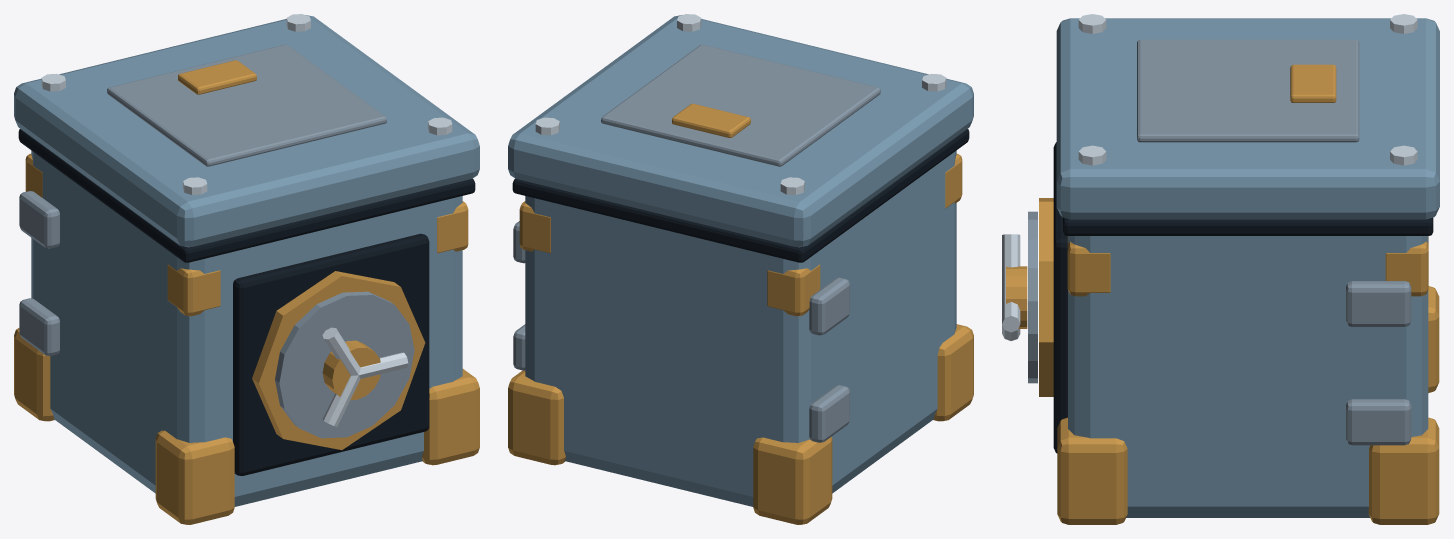
The model's file is vault-box.glb.
3 views of the same model, side by side, from view 1: azimuth 30°, elevation 25°; view 2: azimuth 150°, elevation 25°; view 3: azimuth 270°, elevation 25° (orthographic). The views are drawn at different scales.
Visible parts, largest first — view 1: vault-box__vault-color, vault-box__steel, vault-box__brass, vault-box__dark, vault-box__chrome; view 2: vault-box__vault-color, vault-box__steel, vault-box__brass, vault-box__dark, vault-box__chrome; view 3: vault-box__vault-color, vault-box__steel, vault-box__brass, vault-box__dark, vault-box__chrome.
Part boxes in pixels (x1,y1,x2,y2): vault-box__vault-color: [14, 15, 479, 506]; vault-box__steel: [19, 44, 414, 438]; vault-box__brass: [14, 60, 479, 524]; vault-box__dark: [18, 129, 475, 475]; vault-box__chrome: [41, 14, 452, 426]; vault-box__vault-color: [508, 15, 973, 506]; vault-box__steel: [513, 44, 880, 442]; vault-box__brass: [508, 103, 973, 524]; vault-box__dark: [512, 129, 969, 262]; vault-box__chrome: [535, 14, 946, 194]; vault-box__vault-color: [1056, 18, 1439, 517]; vault-box__steel: [1028, 39, 1411, 445]; vault-box__brass: [1006, 64, 1439, 524]; vault-box__dark: [1053, 142, 1433, 453]; vault-box__chrome: [1002, 14, 1417, 340].
Bounding box in the file's own units: 0.516 × 0.5335 × 0.571.
